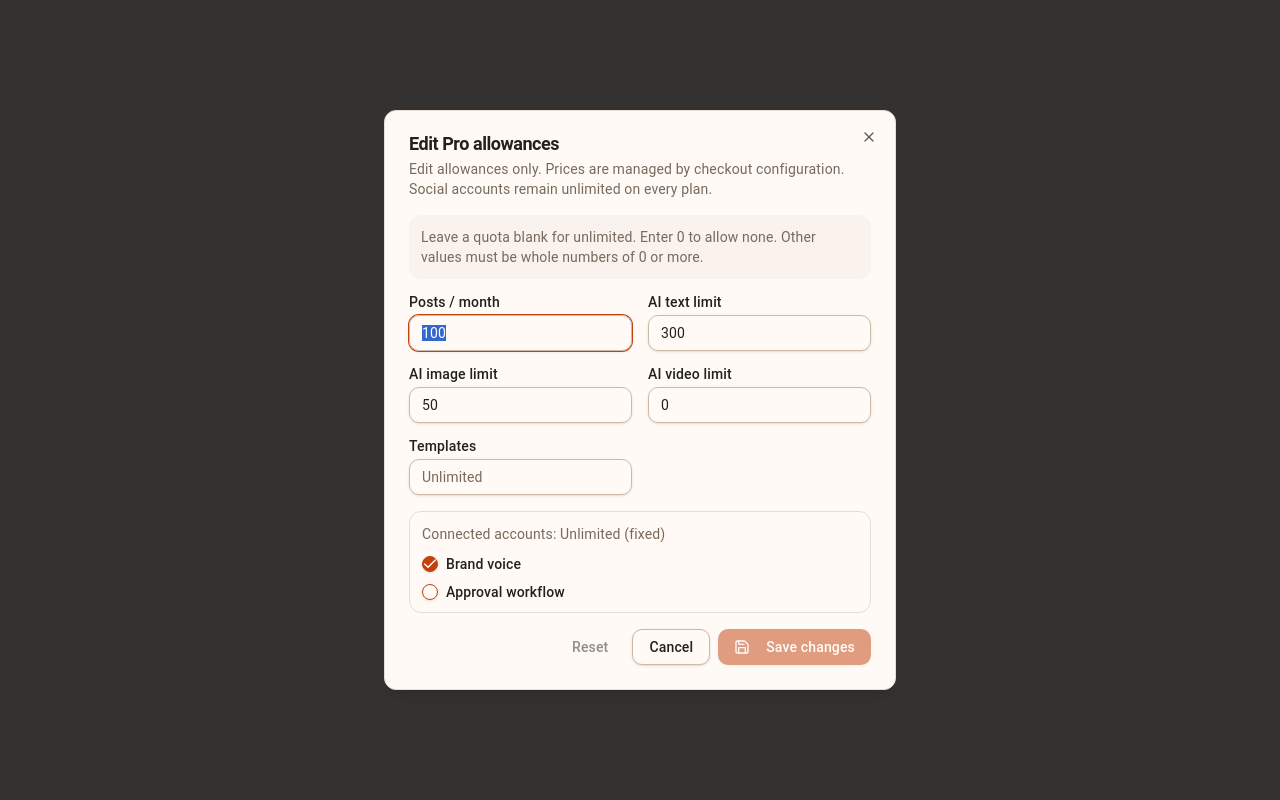
Test case: PricingPlanEditModal › submits only changed allowances, preserving zero versus unlimited and boolean values
This screenshot has width=1280, height=800.
Later steps or results of the test are not shown.
expect the button "Save changes" is disabled: met, box [718,629,871,665]
Replace the text in the field labelled "Posts / month" with "0" at (520, 333), box [409,315,632,351]
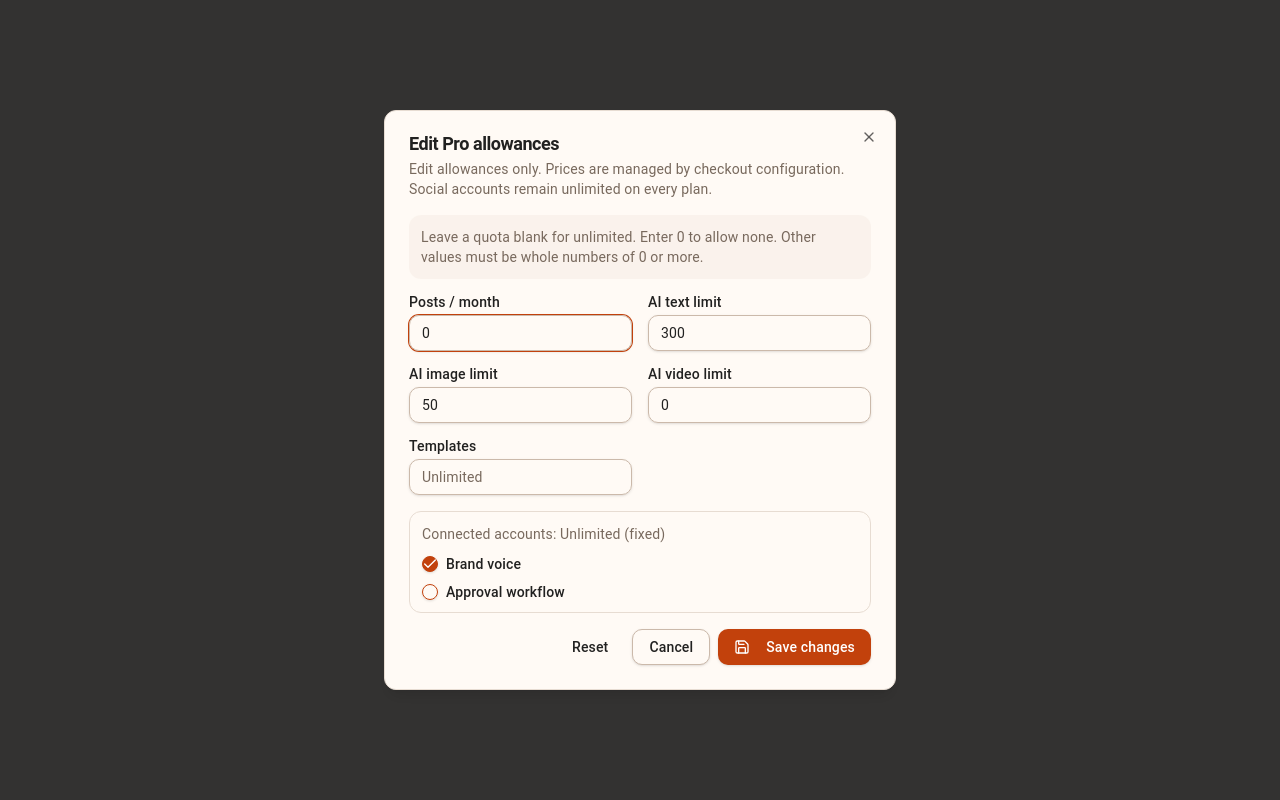
Clear the field labelled "AI image limit" at (520, 405), box [409,387,632,423]
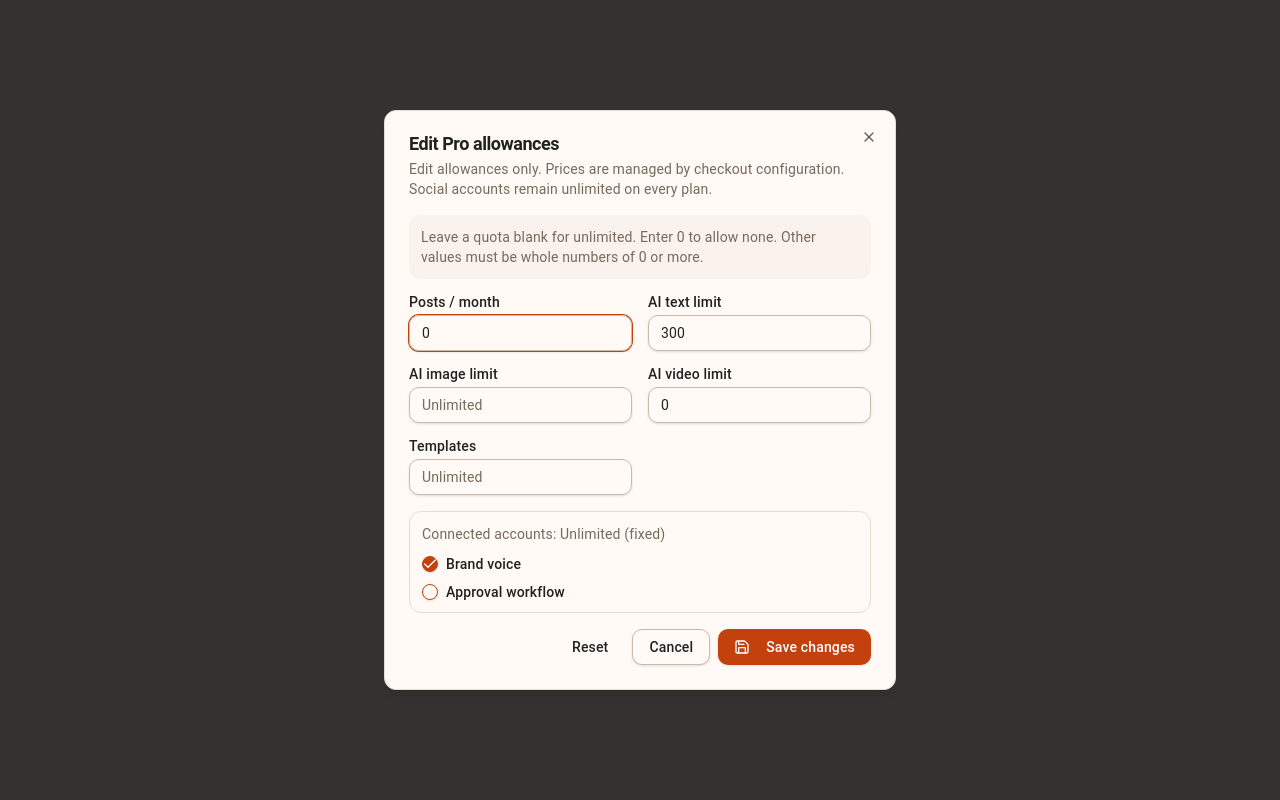
Type "0" into the field labelled "Templates".
click(520, 477); type("0")  # box [409,459,632,495]
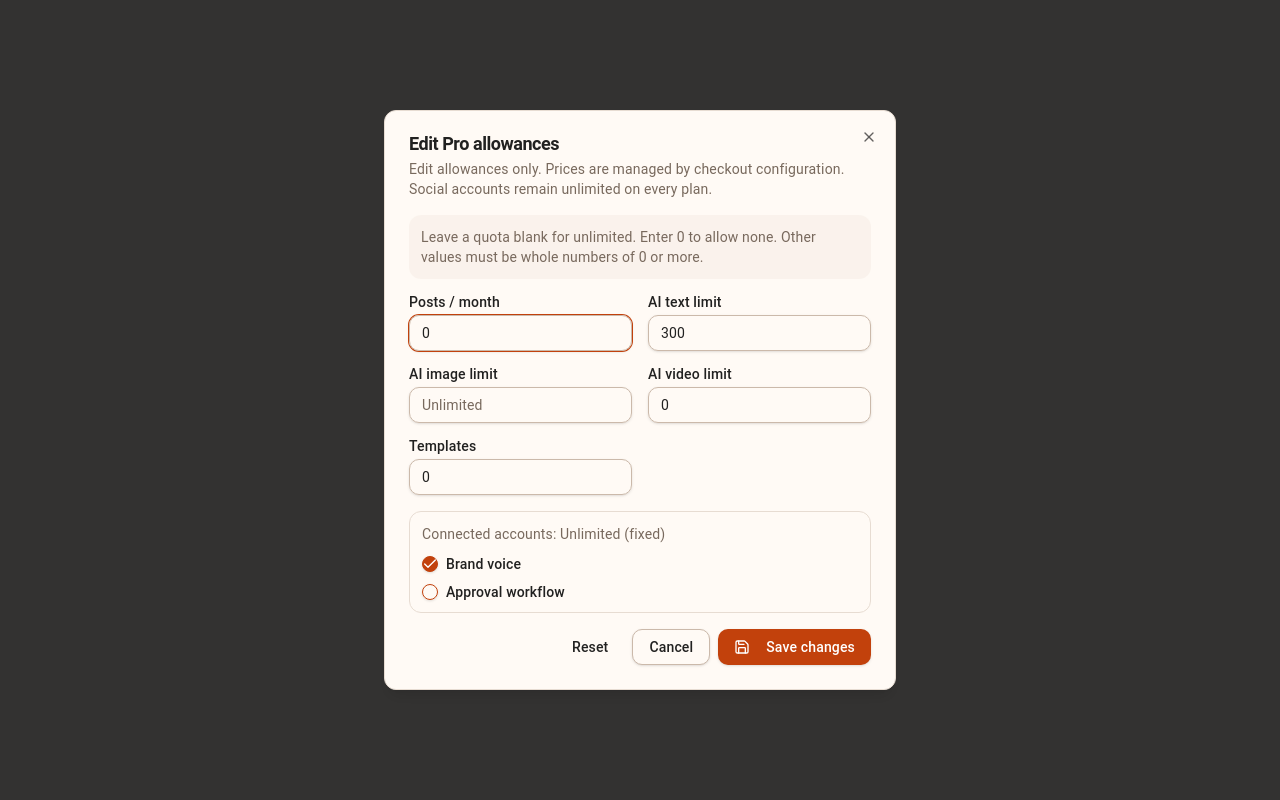
Click the checkbox named "Approval workflow" next to "Approval workflow".
click(430, 592)  # box [422,584,438,600]
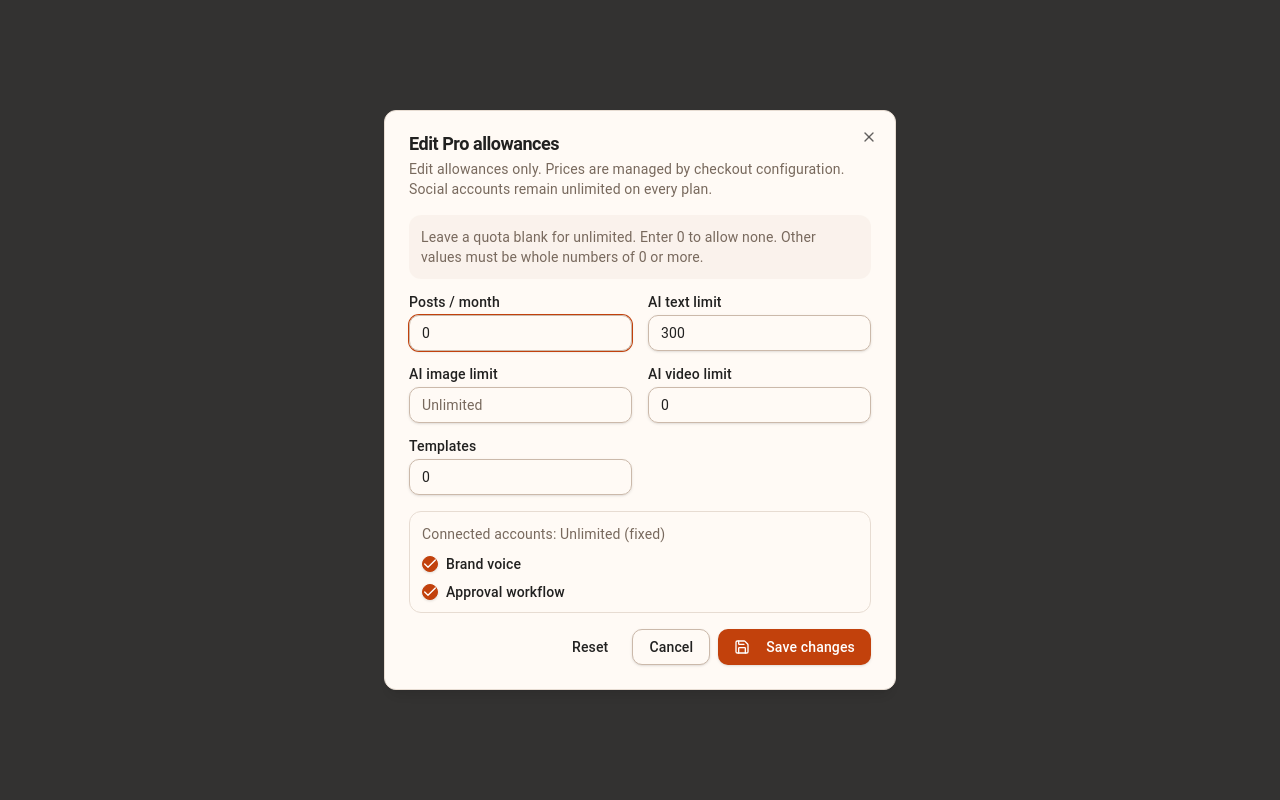
Click the button "Save changes".
click(795, 647)  # box [718,629,871,665]
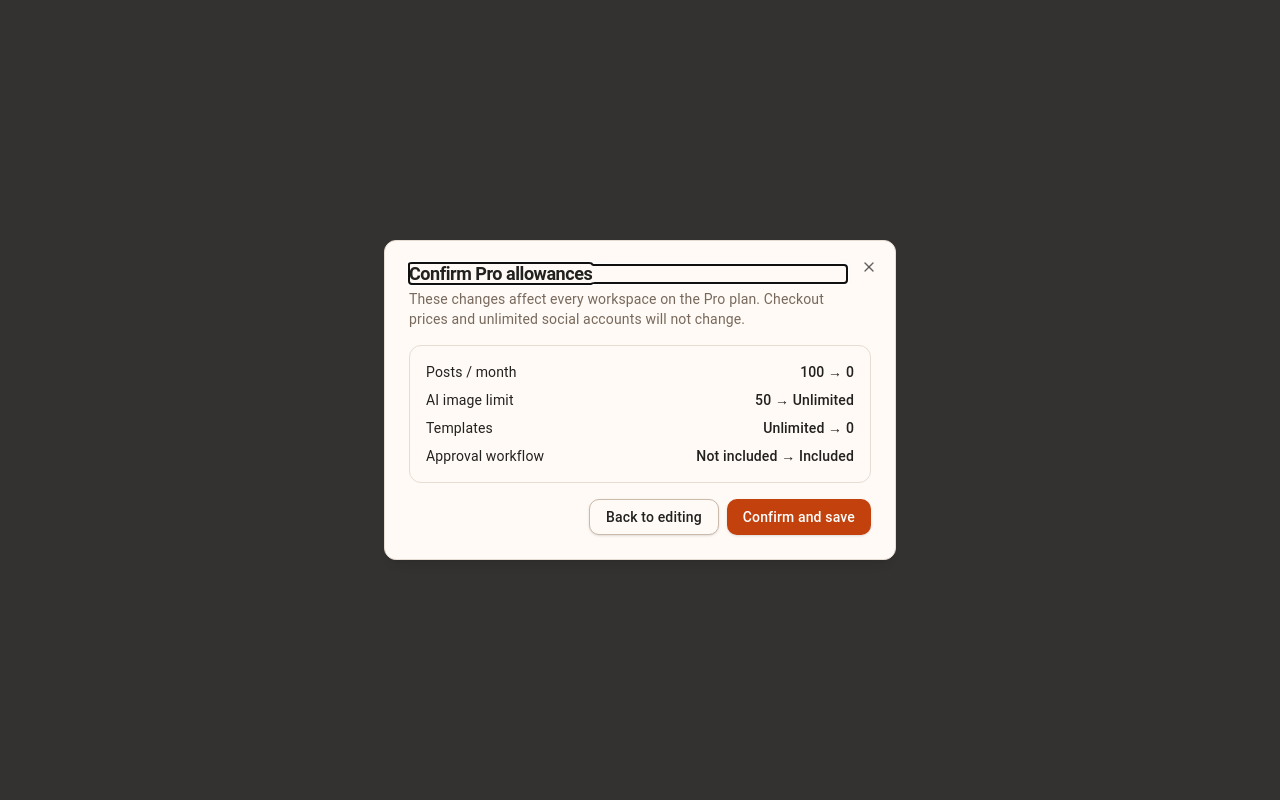
expect the text "affect every workspace on the Pro plan" is shown: met, box [409,291,824,327]
